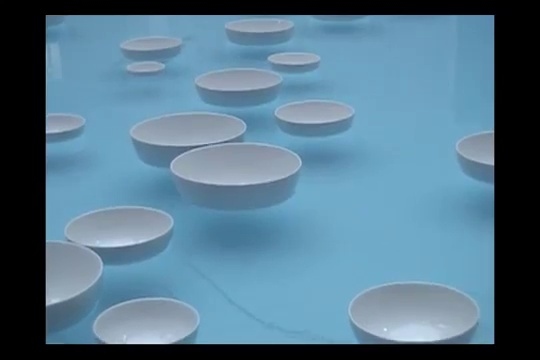bowl: (169, 143, 302, 209), (347, 280, 481, 343), (129, 111, 247, 168), (64, 205, 175, 263), (92, 296, 202, 345), (46, 239, 103, 327), (194, 67, 283, 106), (273, 99, 356, 137), (455, 130, 494, 182), (224, 18, 295, 46), (120, 36, 183, 62), (45, 113, 86, 141), (267, 52, 321, 71), (124, 61, 166, 75)
